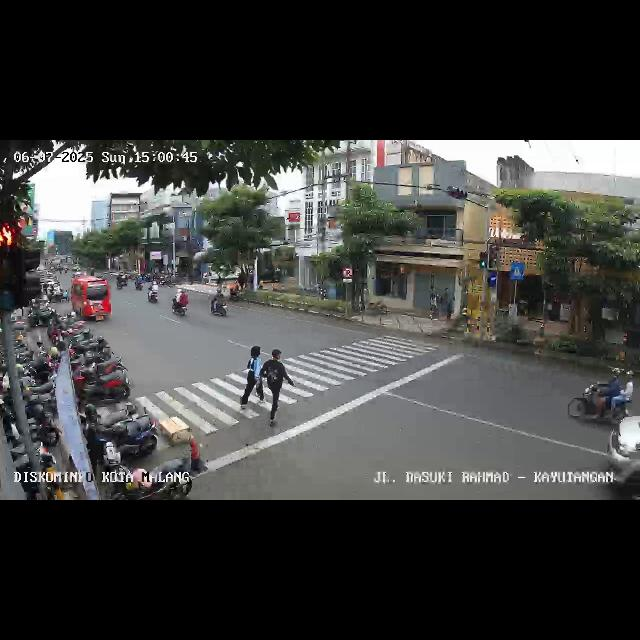car: (70, 276, 112, 324)
motorcycle: (568, 368, 636, 432), (208, 290, 230, 318), (172, 286, 190, 318), (146, 280, 158, 302)
person: (264, 348, 286, 420), (243, 344, 263, 416)
